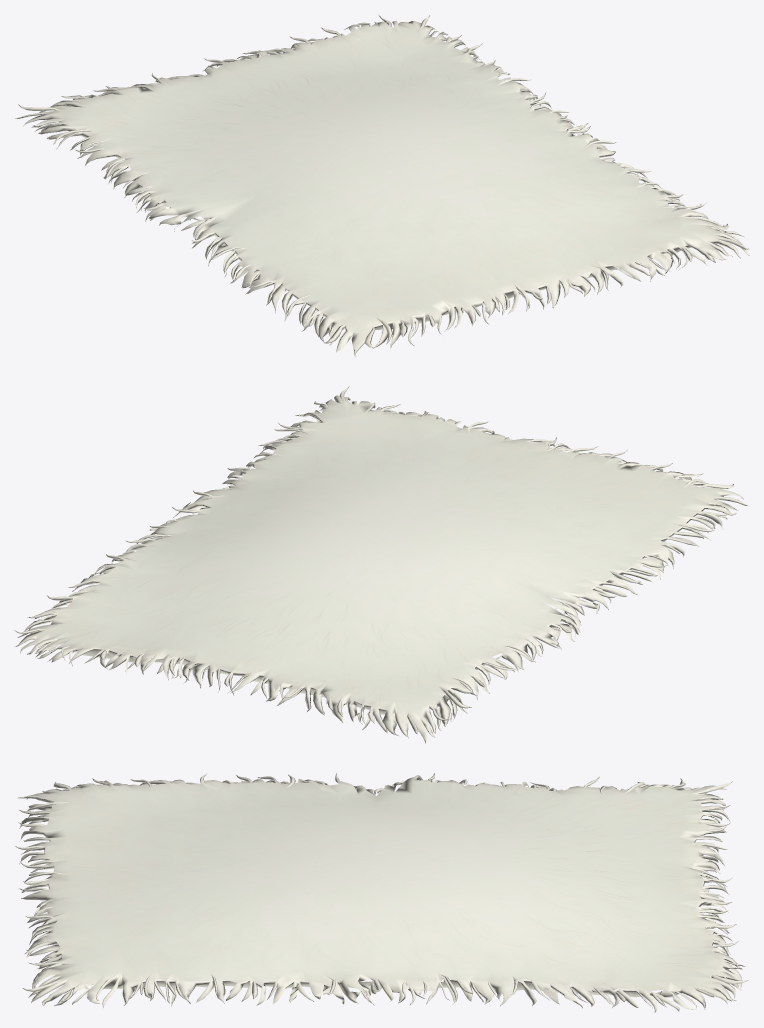
The model's file is rug.glb.
The picture shows the model from 3 angles, top to bottom: view 1: azimuth 30°, elevation 25°; view 2: azimuth 150°, elevation 25°; view 3: azimuth 270°, elevation 25°; orthographic projection. The views are drawn at different scales.
Visible parts, largest first — view 1: tripo_6b685dd4_6629_40e7_b705_06f40a5c9811; view 2: tripo_6b685dd4_6629_40e7_b705_06f40a5c9811; view 3: tripo_6b685dd4_6629_40e7_b705_06f40a5c9811.
Part boxes in pixels (x1=…): tripo_6b685dd4_6629_40e7_b705_06f40a5c9811: x1=15, y1=15, x2=749, y2=356; tripo_6b685dd4_6629_40e7_b705_06f40a5c9811: x1=14, y1=386, x2=747, y2=743; tripo_6b685dd4_6629_40e7_b705_06f40a5c9811: x1=15, y1=773, x2=748, y2=1012.
Size of the model in its own units: 0.7241 by 0.0718 by 0.9995.
1 material, 1 textured.
